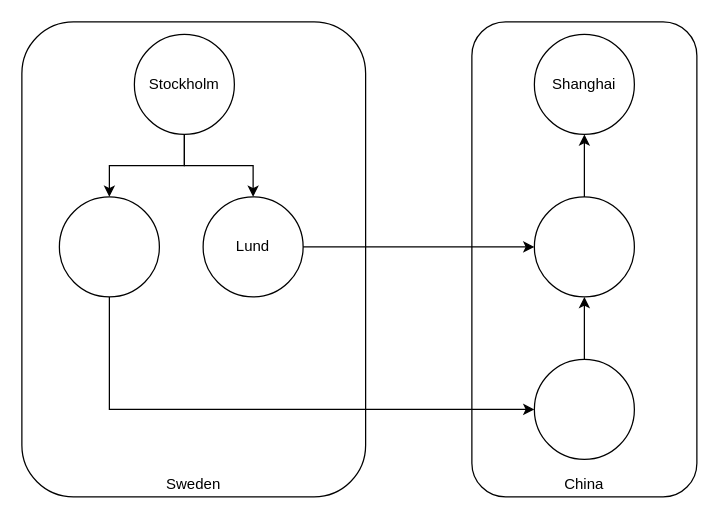
This 719x519 diagram has some shape labels left out. Here are the shapes that lost their labels. From the top down, the centre of each, then its label:
At (x=108, y=246): "Uppsala".
At (x=583, y=246): "Beijing".
At (x=583, y=408): "Xian".
